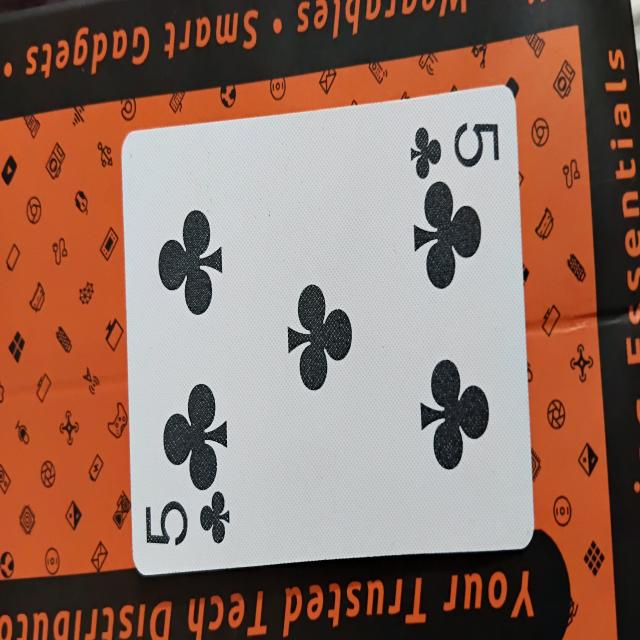5C: (114, 84, 535, 570)
